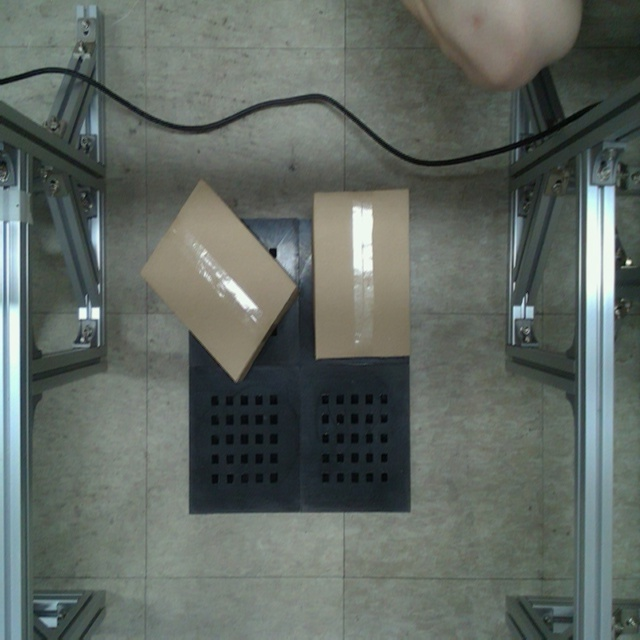box: (138, 177, 298, 385), (312, 188, 410, 361)
